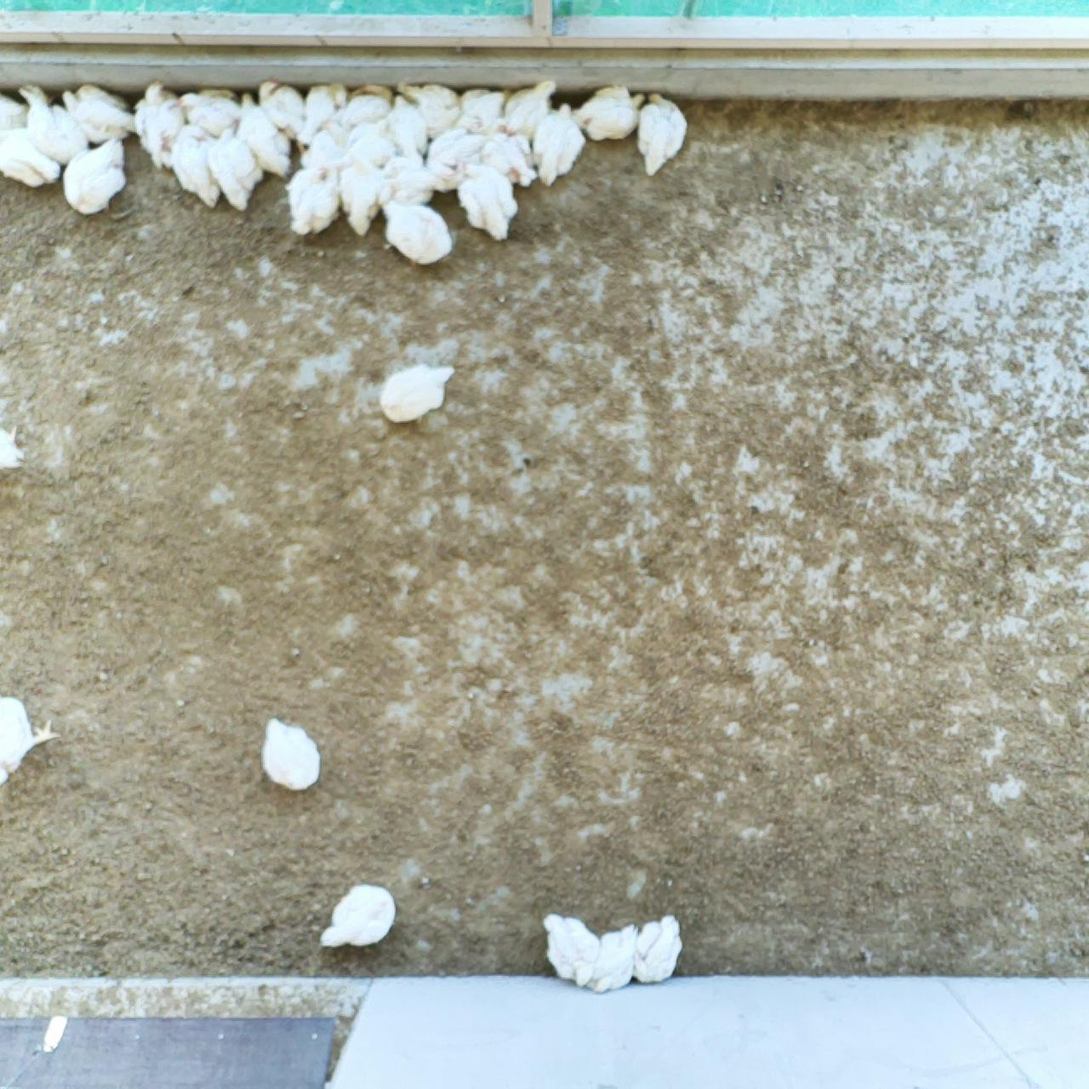chicken: (375, 181, 452, 266), (0, 683, 60, 792), (14, 81, 89, 164), (320, 879, 399, 956), (377, 360, 463, 428), (632, 88, 695, 180), (232, 87, 295, 176), (64, 138, 130, 218), (530, 99, 586, 190), (255, 715, 321, 792), (206, 124, 265, 210), (54, 83, 136, 144), (456, 161, 519, 240), (160, 122, 218, 207), (285, 154, 338, 241), (541, 908, 595, 991), (589, 918, 643, 995), (134, 78, 184, 161), (577, 85, 647, 142), (629, 916, 684, 987), (0, 123, 60, 188), (170, 86, 245, 137), (478, 123, 537, 186), (400, 81, 462, 138), (428, 127, 484, 188), (502, 77, 558, 137), (339, 151, 378, 237), (299, 81, 346, 150), (379, 93, 428, 158), (255, 78, 305, 141), (451, 84, 509, 137), (377, 156, 437, 205), (343, 81, 395, 131), (303, 115, 349, 168), (342, 117, 392, 165), (0, 88, 34, 141), (0, 420, 26, 476)
